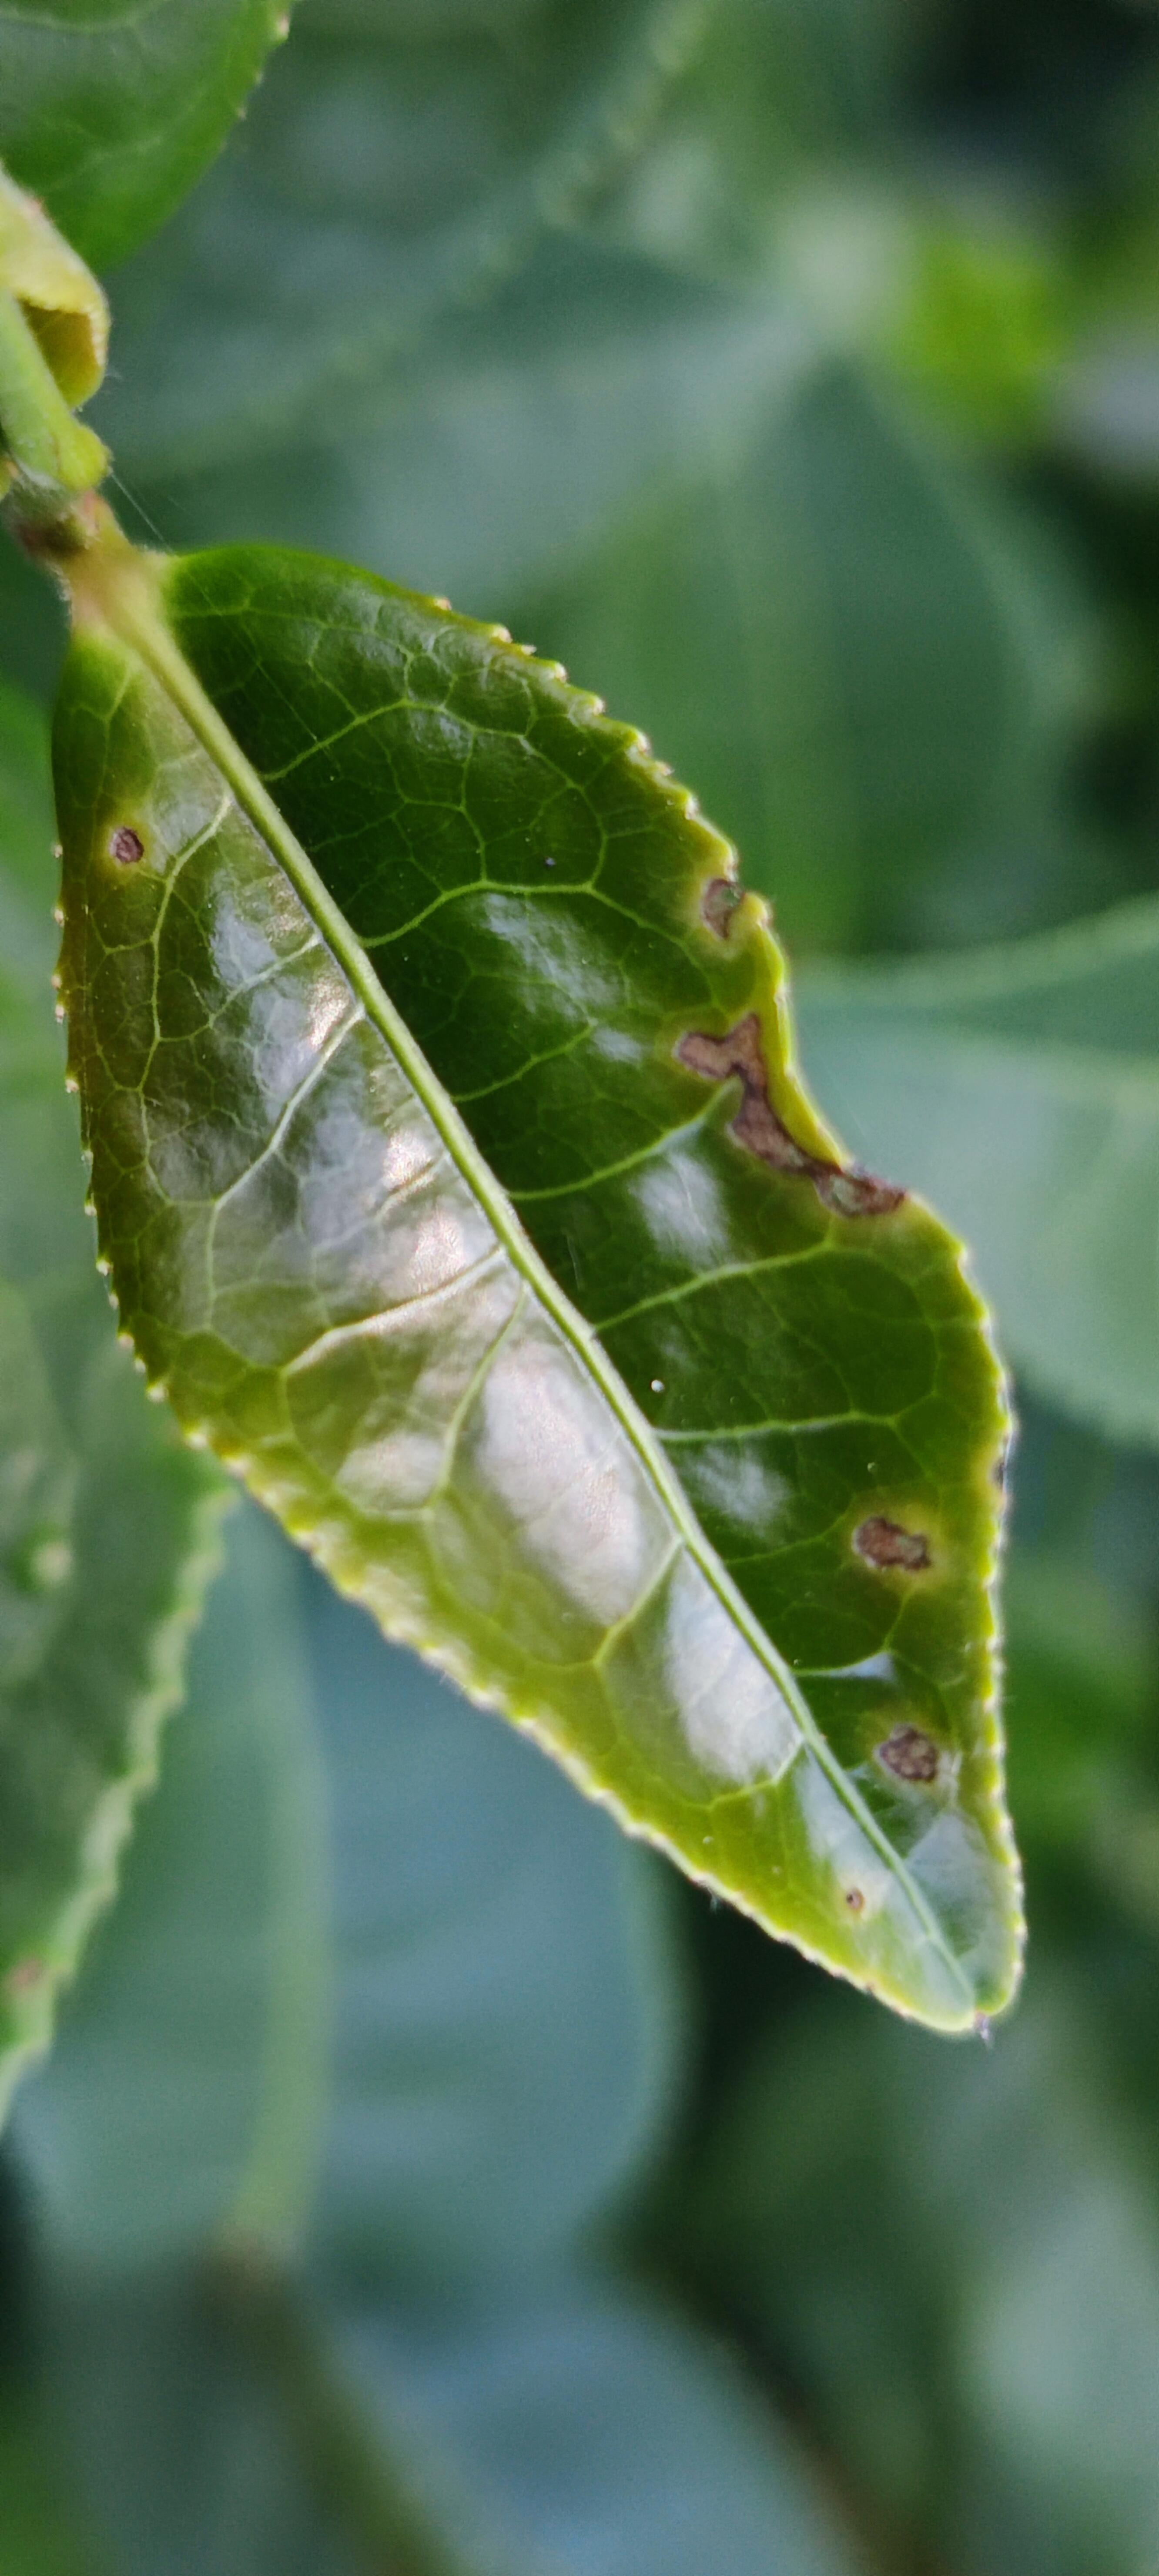tanju_high: (41, 534, 1034, 2031)
